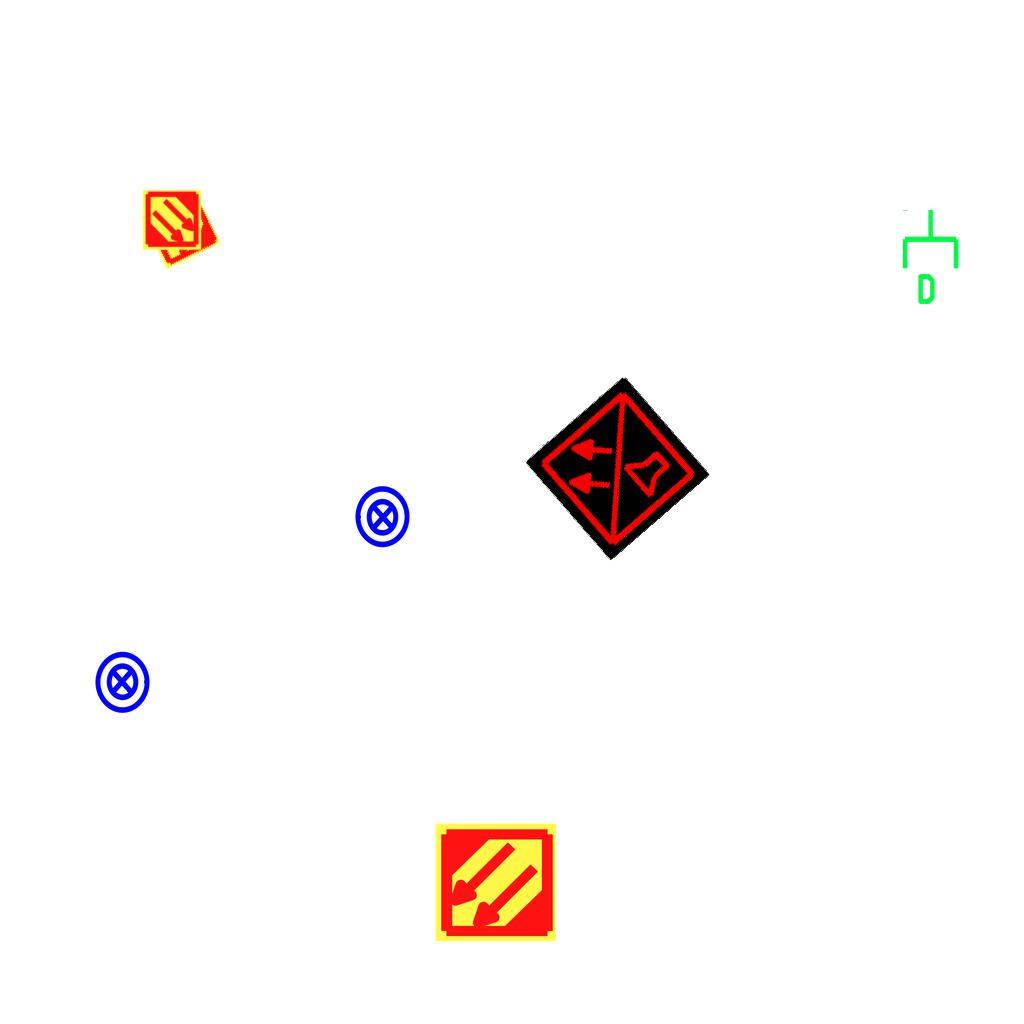ASR_Ansaugrauchmelder: (433, 820, 558, 945), (139, 188, 223, 272), (141, 189, 203, 251)
Datenanschluss_einfach: (898, 207, 967, 307)
OKW_Multisensormelder_(Kombination_optischer_Rauch-Kahlenmonoxid_Waerme-Melder): (523, 374, 711, 562)
Taster_beleuchtet: (350, 484, 416, 550), (89, 649, 155, 715)
